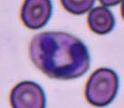N: (30, 31, 90, 79)
